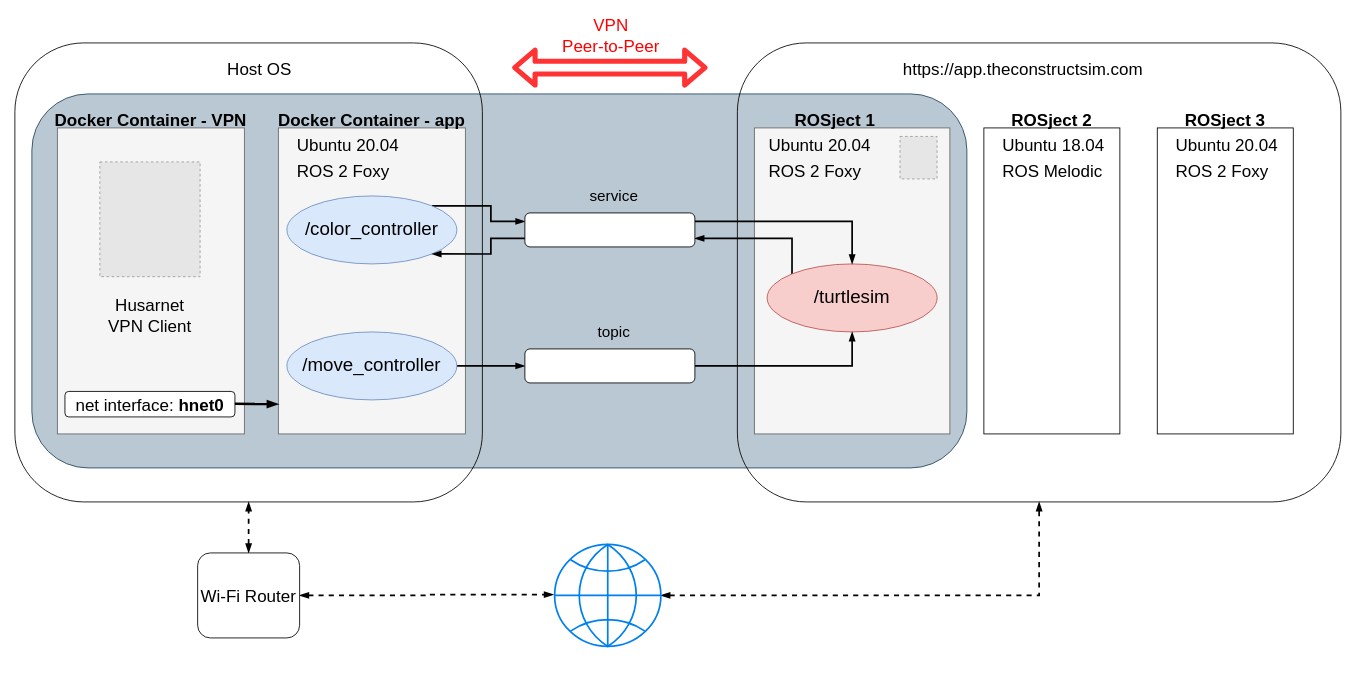
This 1356x688 diagram has some shape labels left out. Grey dashed boxes stand in for pictures. The centre of each missing label's shape, as x and y in pixels:
/turtle1/cmd_vel: point 609,365
/turtle1/set_pen: point 609,229
PUBLIC INTERNET: point 607,595
